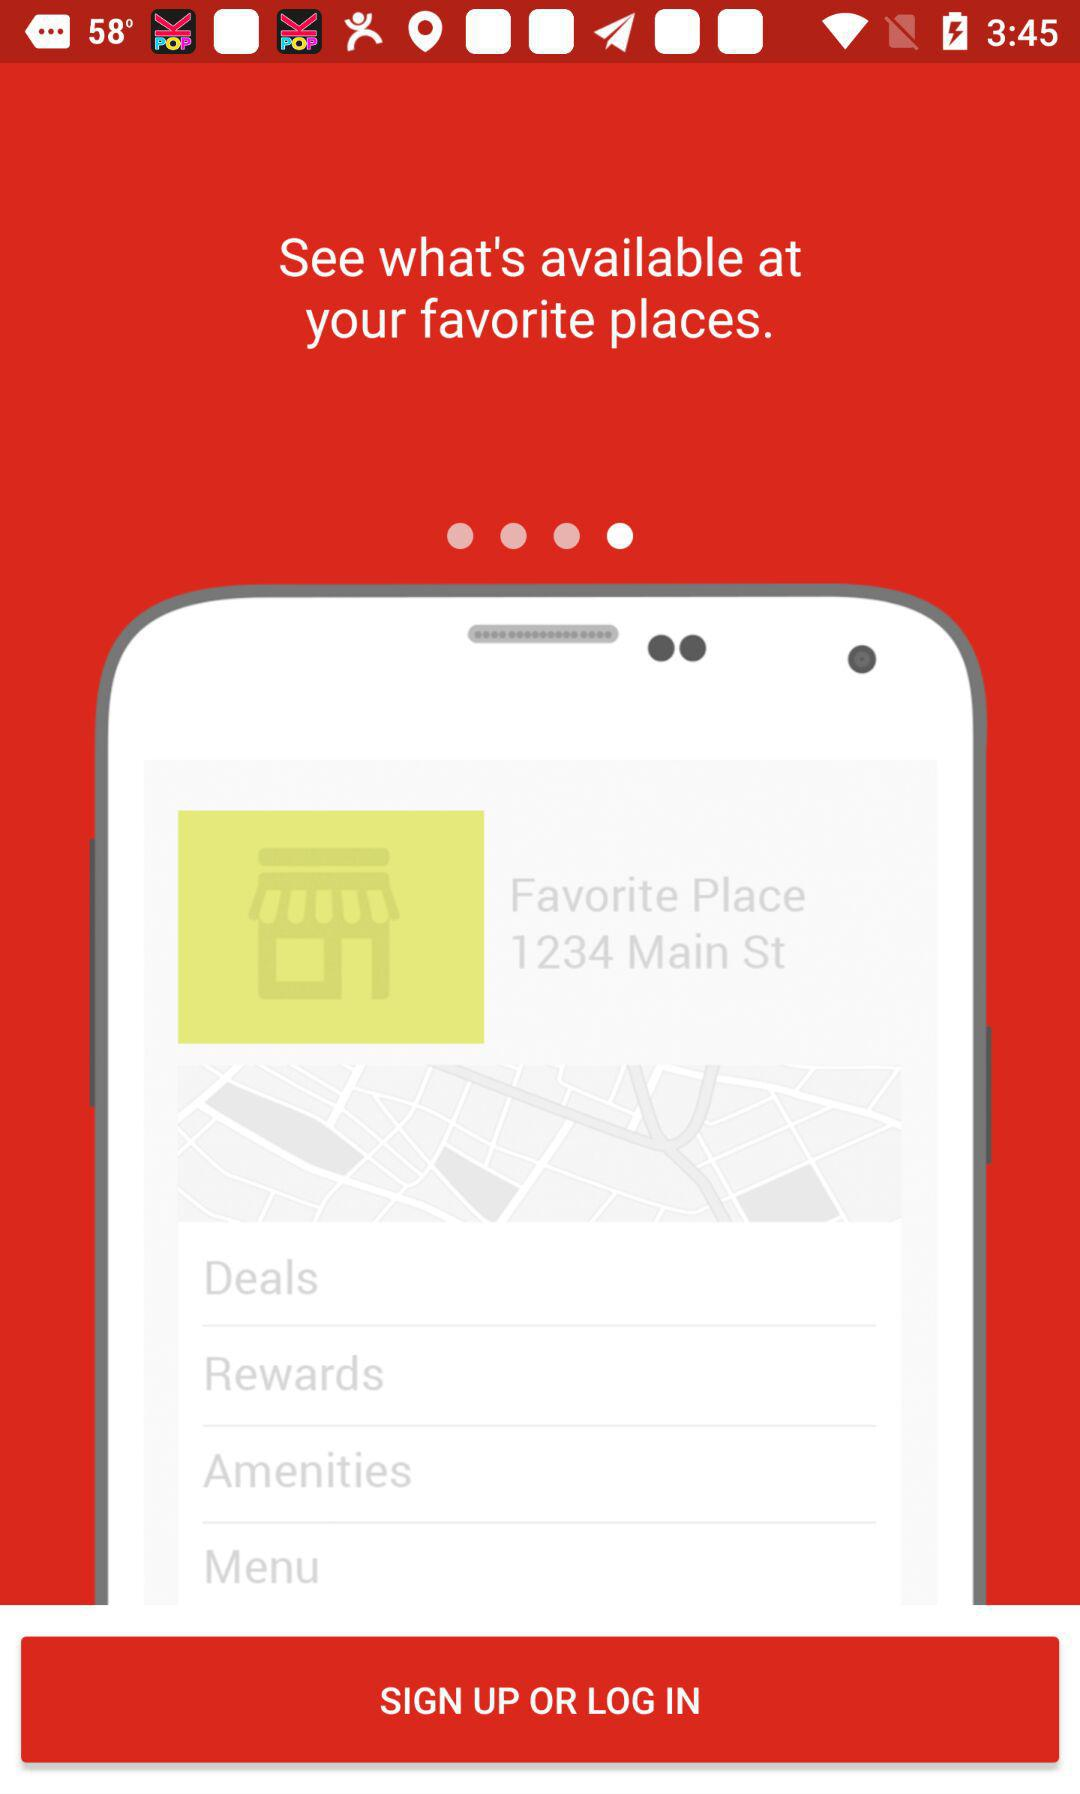Image: (88, 582, 992, 1606)
PageIndicator: (445, 522, 635, 552)
Text: (277, 235, 803, 351)
TextButton: (20, 1636, 1060, 1763)
UpperTaskBar: (1, 1, 1080, 64)
